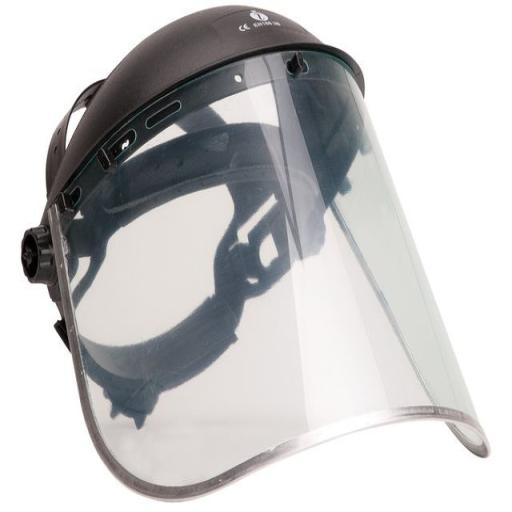mask: (28, 0, 499, 508)
